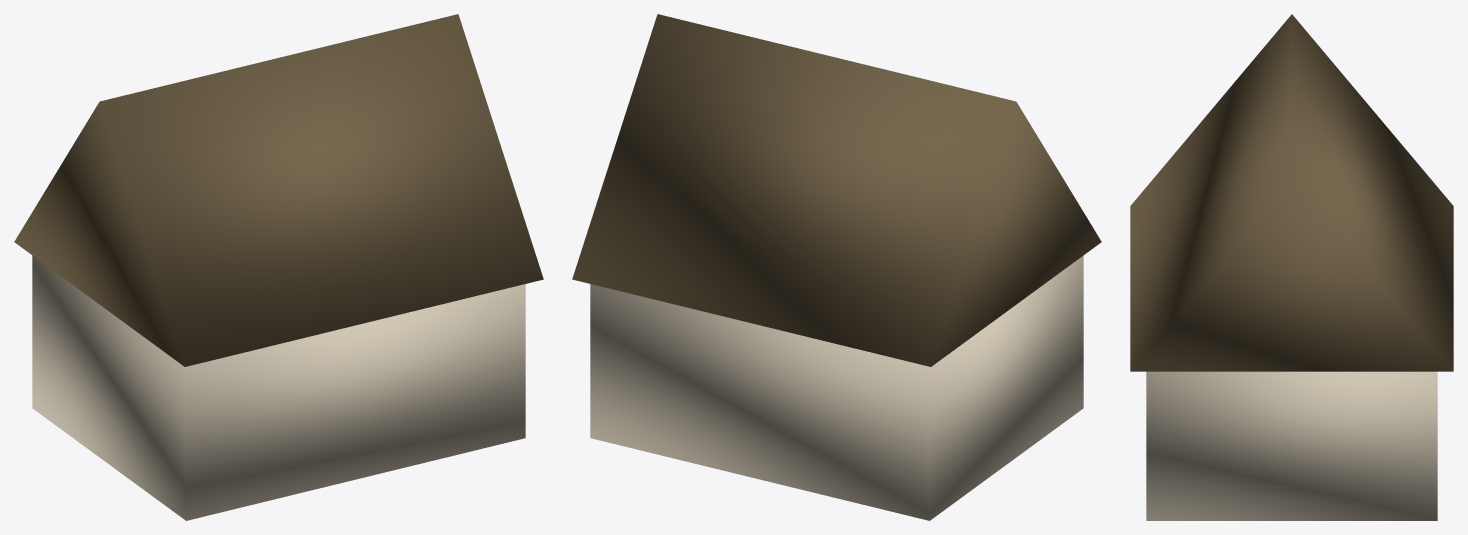
Rendered from tpl_hz_westbank_old.glb.
3 views of the same model, side by side, from view 1: azimuth 30°, elevation 25°; view 2: azimuth 150°, elevation 25°; view 3: azimuth 270°, elevation 25° (orthographic). The views are drawn at different scales.
Visible parts, largest first — view 1: tpl_hz_westbank_old; view 2: tpl_hz_westbank_old; view 3: tpl_hz_westbank_old.
Boxes of the visible parts, x1,y1,x2,y2 form: tpl_hz_westbank_old: [14, 14, 543, 520]; tpl_hz_westbank_old: [572, 14, 1101, 520]; tpl_hz_westbank_old: [1130, 14, 1453, 520].
Size of the model in its own units: 7.4 by 7.2 by 6.1.
